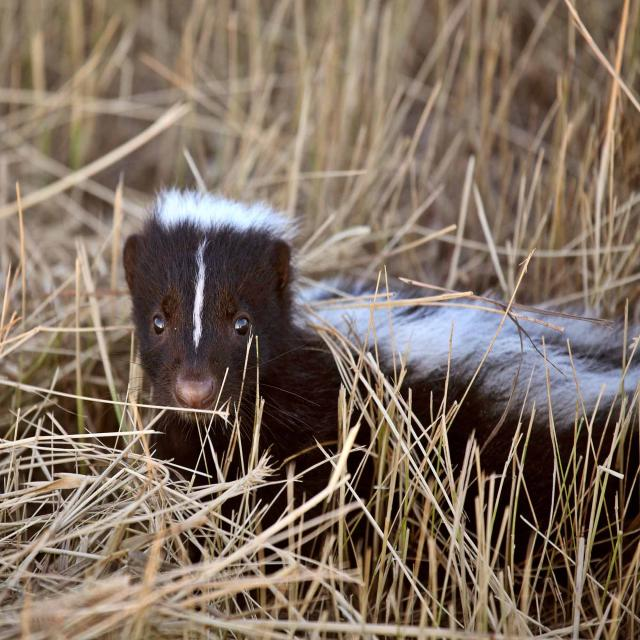Skunk: (98, 138, 640, 534)
